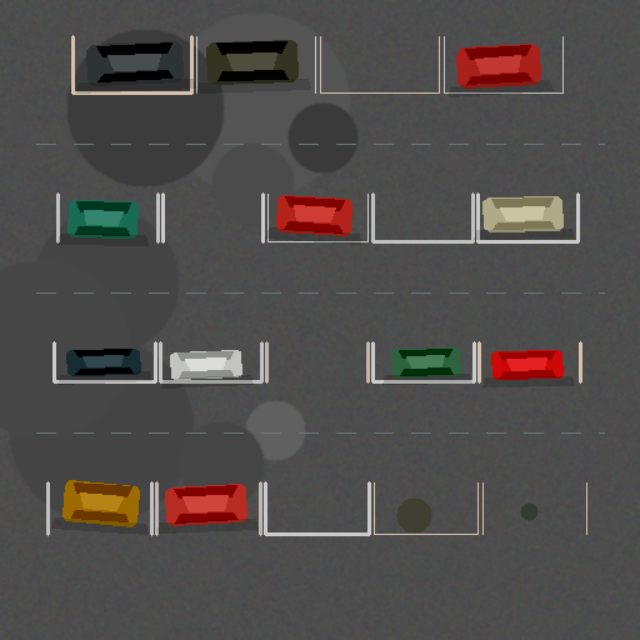space-empty: (320, 36, 439, 93), (265, 482, 369, 534), (374, 482, 477, 534), (483, 482, 586, 534), (162, 194, 262, 241), (372, 194, 472, 241), (266, 343, 367, 381)
space-occupied: (196, 36, 315, 93), (444, 36, 563, 93), (73, 36, 191, 93), (47, 482, 151, 534), (156, 482, 260, 534), (58, 194, 158, 241), (268, 194, 368, 241), (478, 194, 578, 241), (54, 343, 155, 381), (160, 343, 261, 381), (373, 343, 474, 381), (479, 343, 580, 381)
